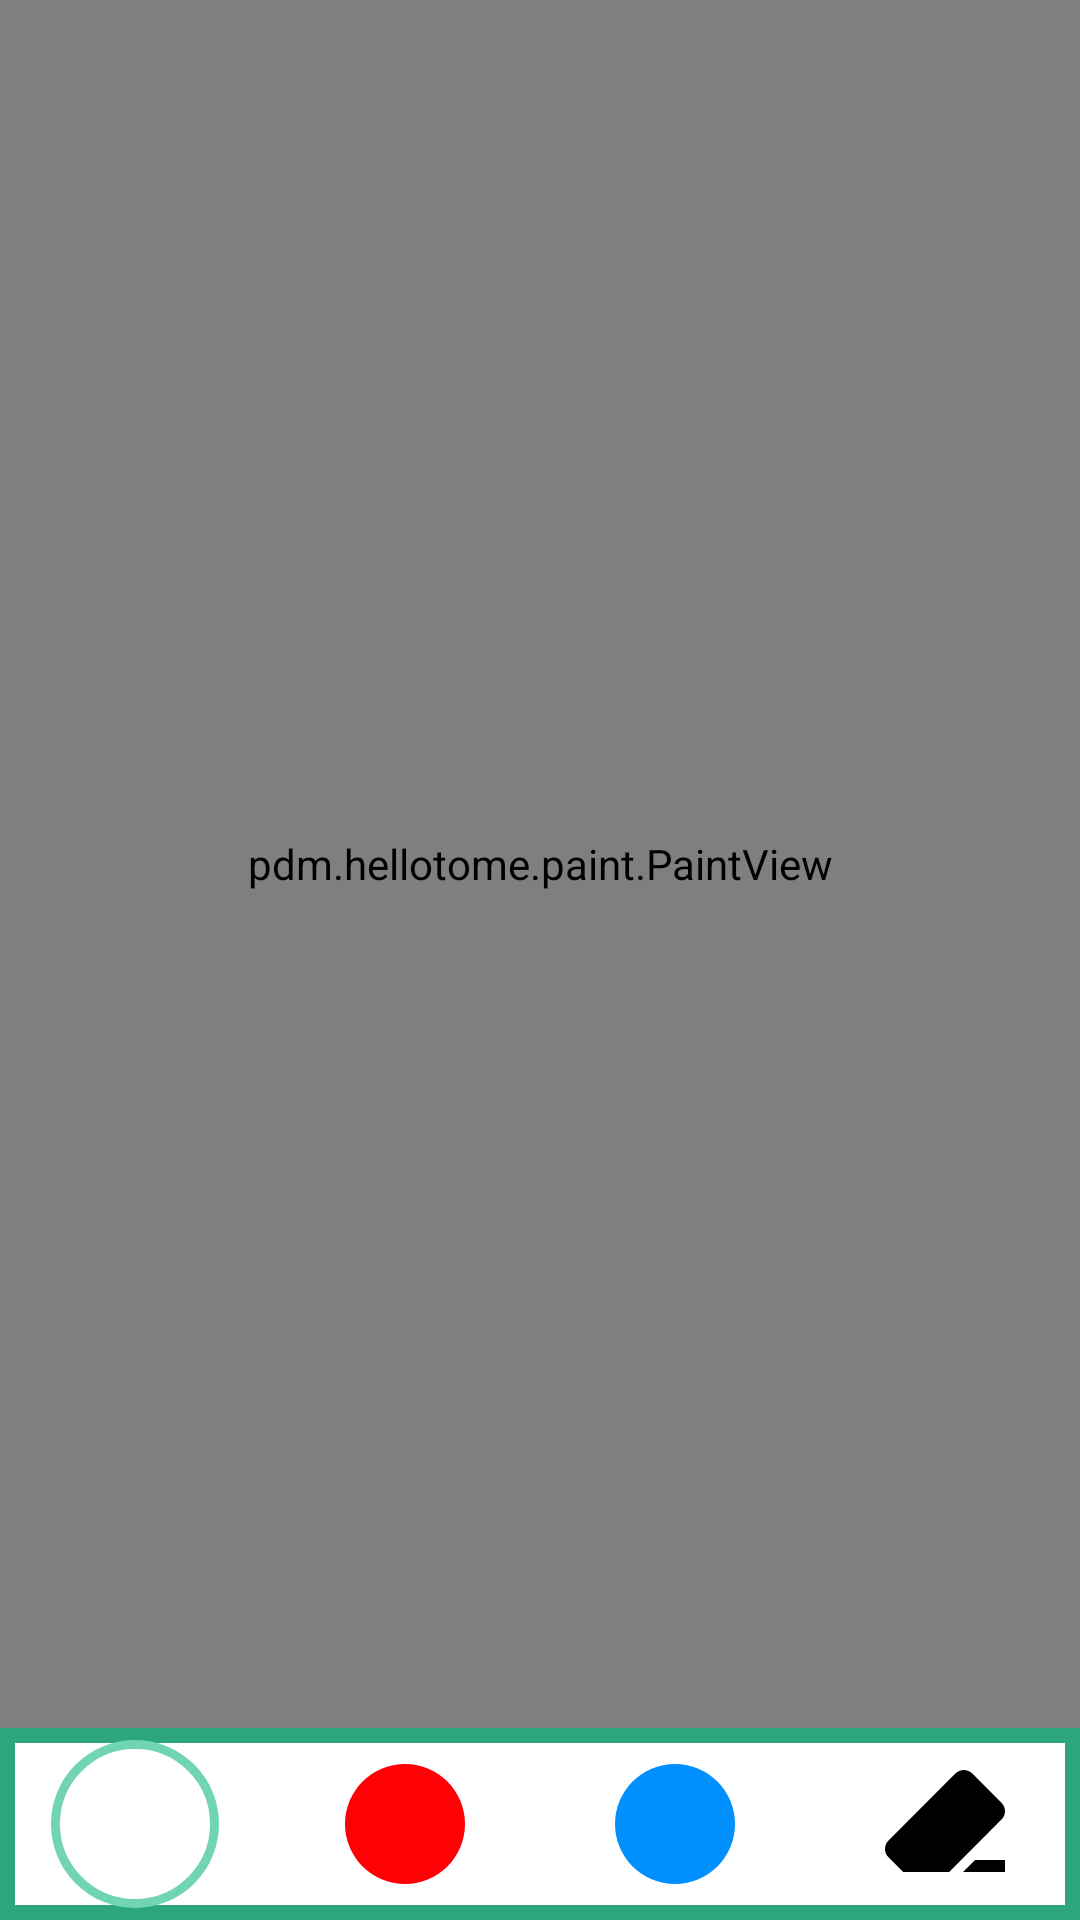

Where to tap for icons on this 1080 x 1920 app screen, as (x,y):
rubber: (945,1821)
